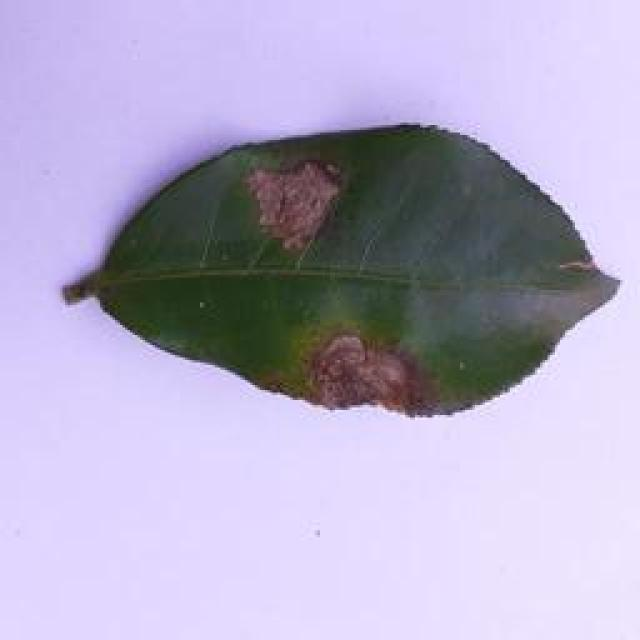Gray Blight: (55, 126, 624, 425)
